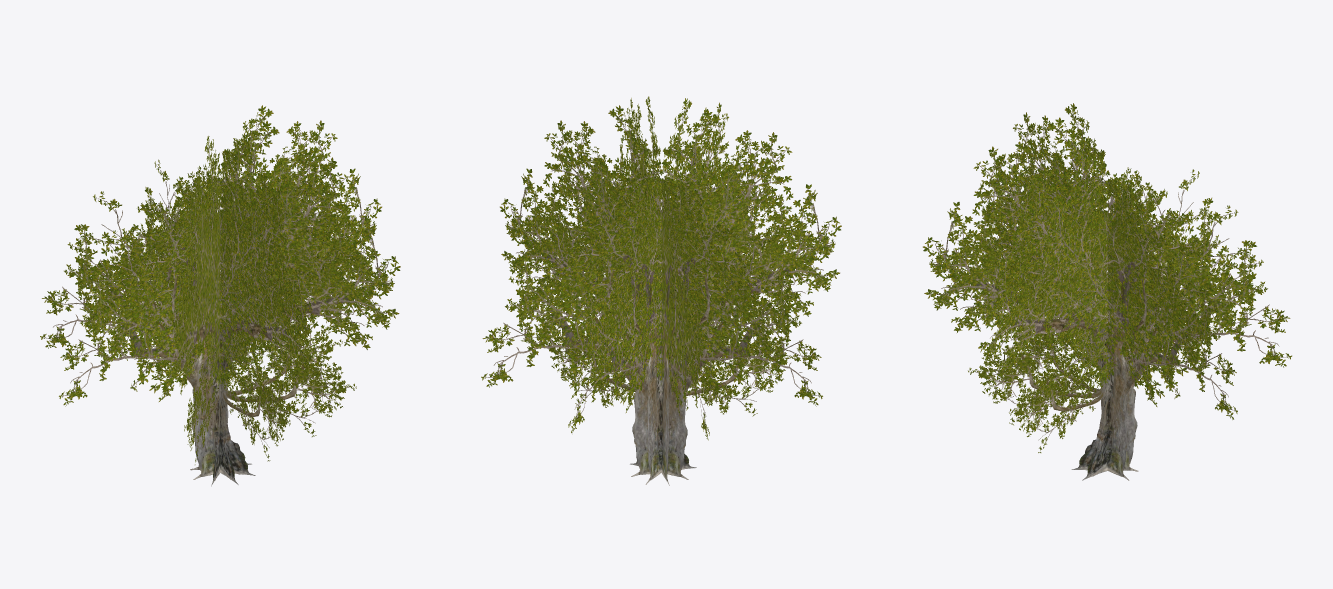
The model's file is island_tree_01-lod1.glb.
3 views of the same model, side by side, from view 1: azimuth 30°, elevation 25°; view 2: azimuth 150°, elevation 25°; view 3: azimuth 270°, elevation 25° (orthographic).
Bounding box in the file's own units: 10.8 × 10.8 × 10.8.
Materials: 1 (1 with a texture image).
